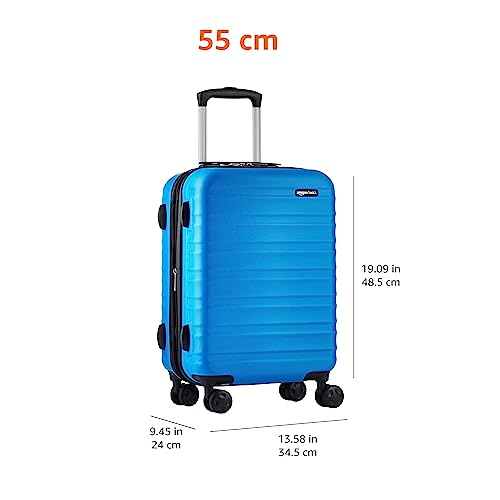19.09: (362, 265, 388, 273)
55cm: (199, 30, 277, 50)
in: (392, 267, 400, 273)
